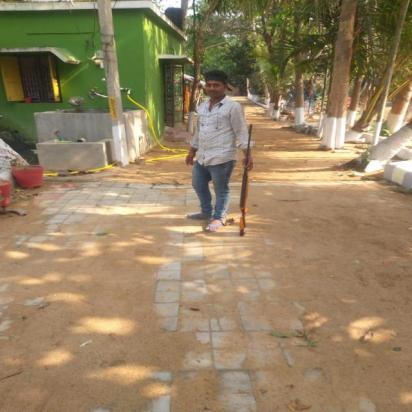Gun: (237, 123, 255, 237)
